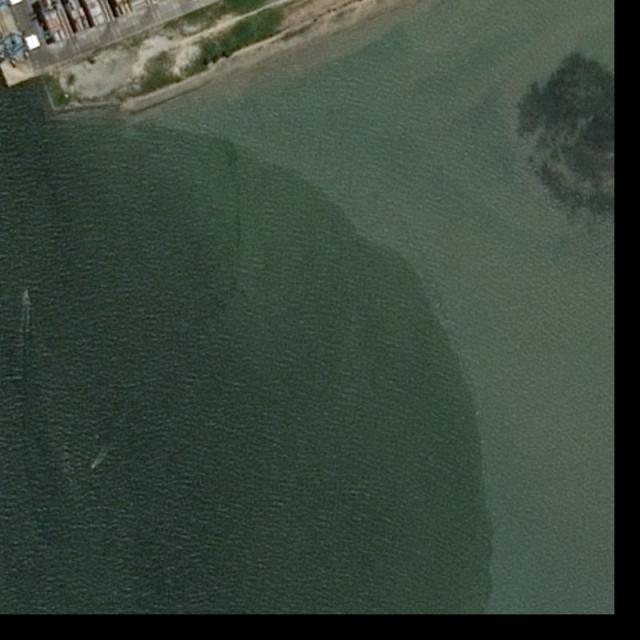ship: (92, 464, 98, 471), (26, 286, 30, 291)
